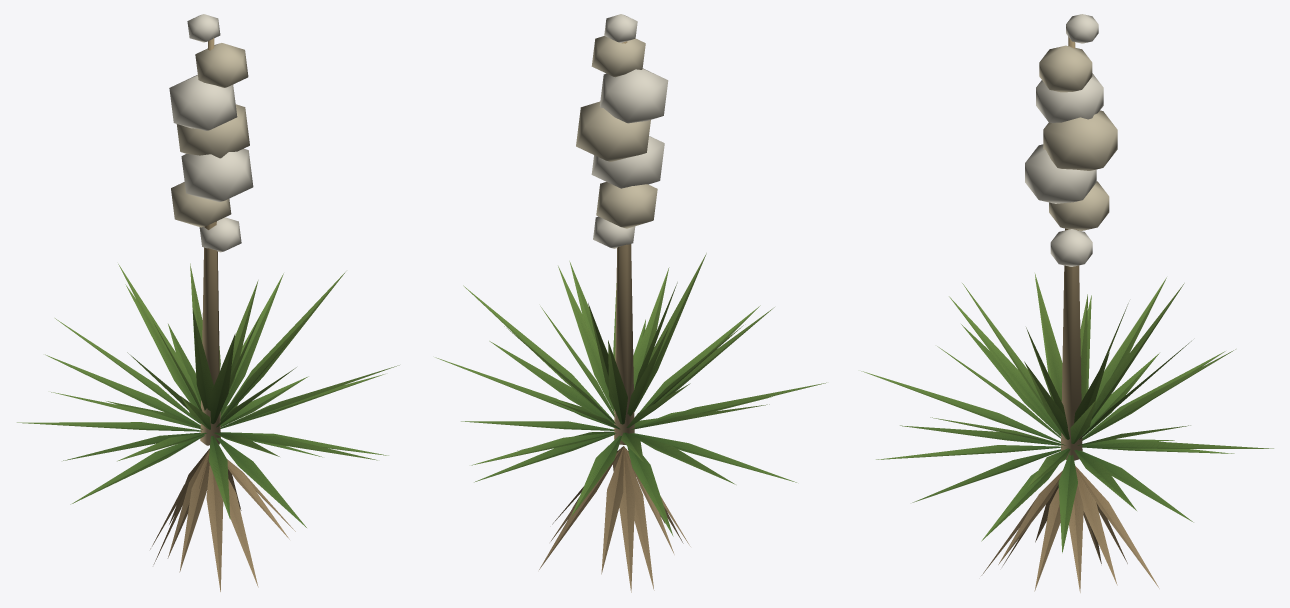
File: yucca_lo.glb
3 views of the same model, side by side, from view 1: azimuth 30°, elevation 25°; view 2: azimuth 150°, elevation 25°; view 3: azimuth 270°, elevation 25° (orthographic). The views are drawn at different scales.
Visible parts, largest first — view 1: yucca_lo; view 2: yucca_lo; view 3: yucca_lo.
Boxes of the visible parts, <box> form: yucca_lo: <box>17,14,399,591</box>; yucca_lo: <box>435,14,826,592</box>; yucca_lo: <box>861,14,1273,592</box>.
Size of the model in its own units: 1.37 by 2.31 by 1.52.
